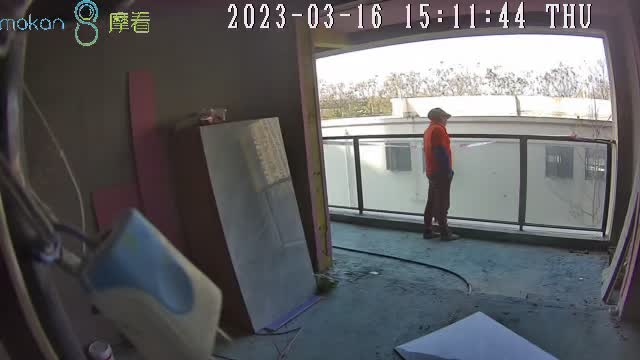people: (423, 106, 462, 242)
window: (318, 42, 616, 235)
